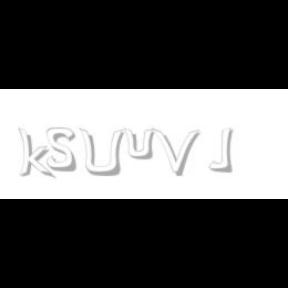J: (207, 128, 232, 172)
S: (46, 128, 78, 172)
U: (78, 128, 124, 178)
V: (152, 128, 200, 176)
k: (18, 128, 56, 180)
u: (124, 128, 158, 160)
